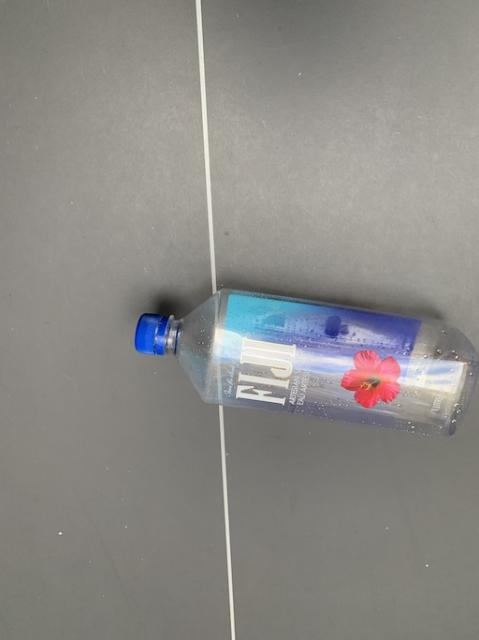plastic: (135, 289, 476, 434)
